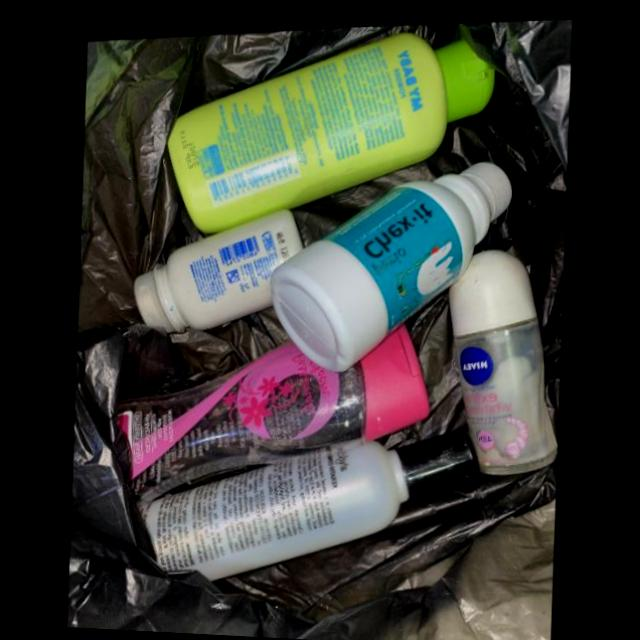chai_thuy_tinh: (449, 245, 558, 472)
hop_nhua: (168, 26, 496, 226), (120, 319, 431, 496), (271, 157, 514, 366), (147, 425, 482, 572), (134, 202, 305, 323)
